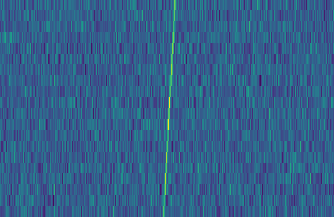signal: (158, 0, 179, 217)
